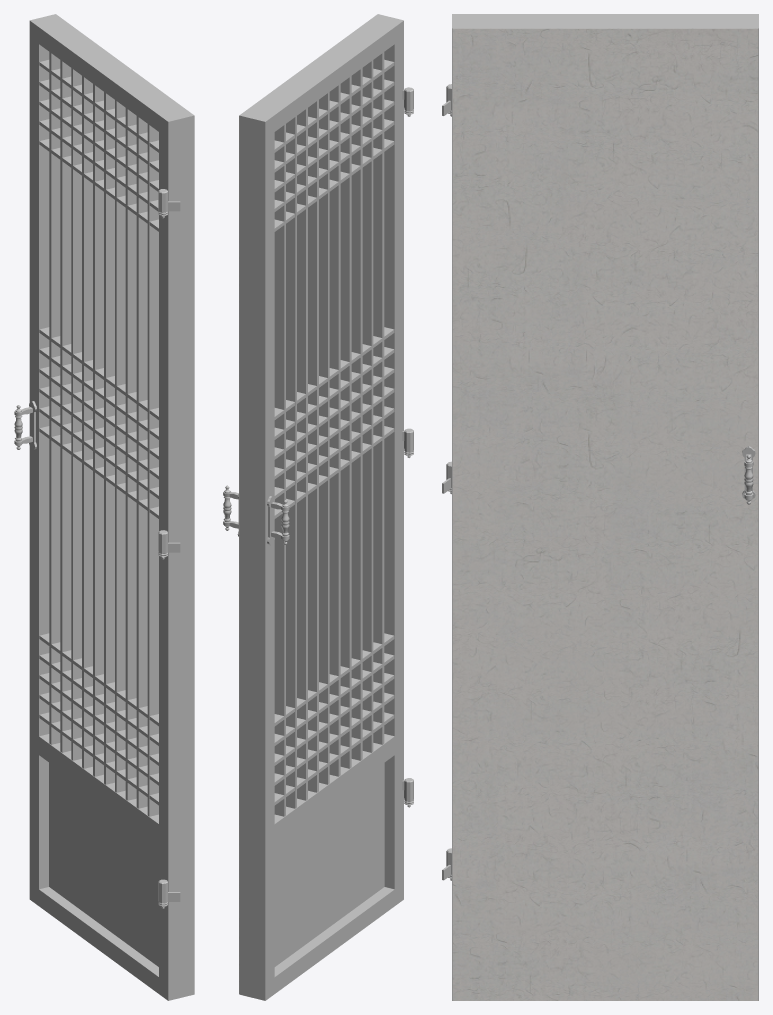
The model's file is SM_GlassDoor01A-b.fbx.
3 views of the same model, side by side, from view 1: azimuth 30°, elevation 25°; view 2: azimuth 150°, elevation 25°; view 3: azimuth 270°, elevation 25° (orthographic). The views are drawn at different scales.
Parts seen in each view (by area): view 1: SM_GlassDoor01A-b; view 2: SM_GlassDoor01A-b; view 3: SM_GlassDoor01A-b.
Boxes of the visible parts, bbox=[...] form: SM_GlassDoor01A-b: bbox=[14, 14, 194, 1000]; SM_GlassDoor01A-b: bbox=[223, 14, 413, 1000]; SM_GlassDoor01A-b: bbox=[442, 14, 758, 1000].
Size of the model in its own units: 13.96 by 53.53 by 181.
